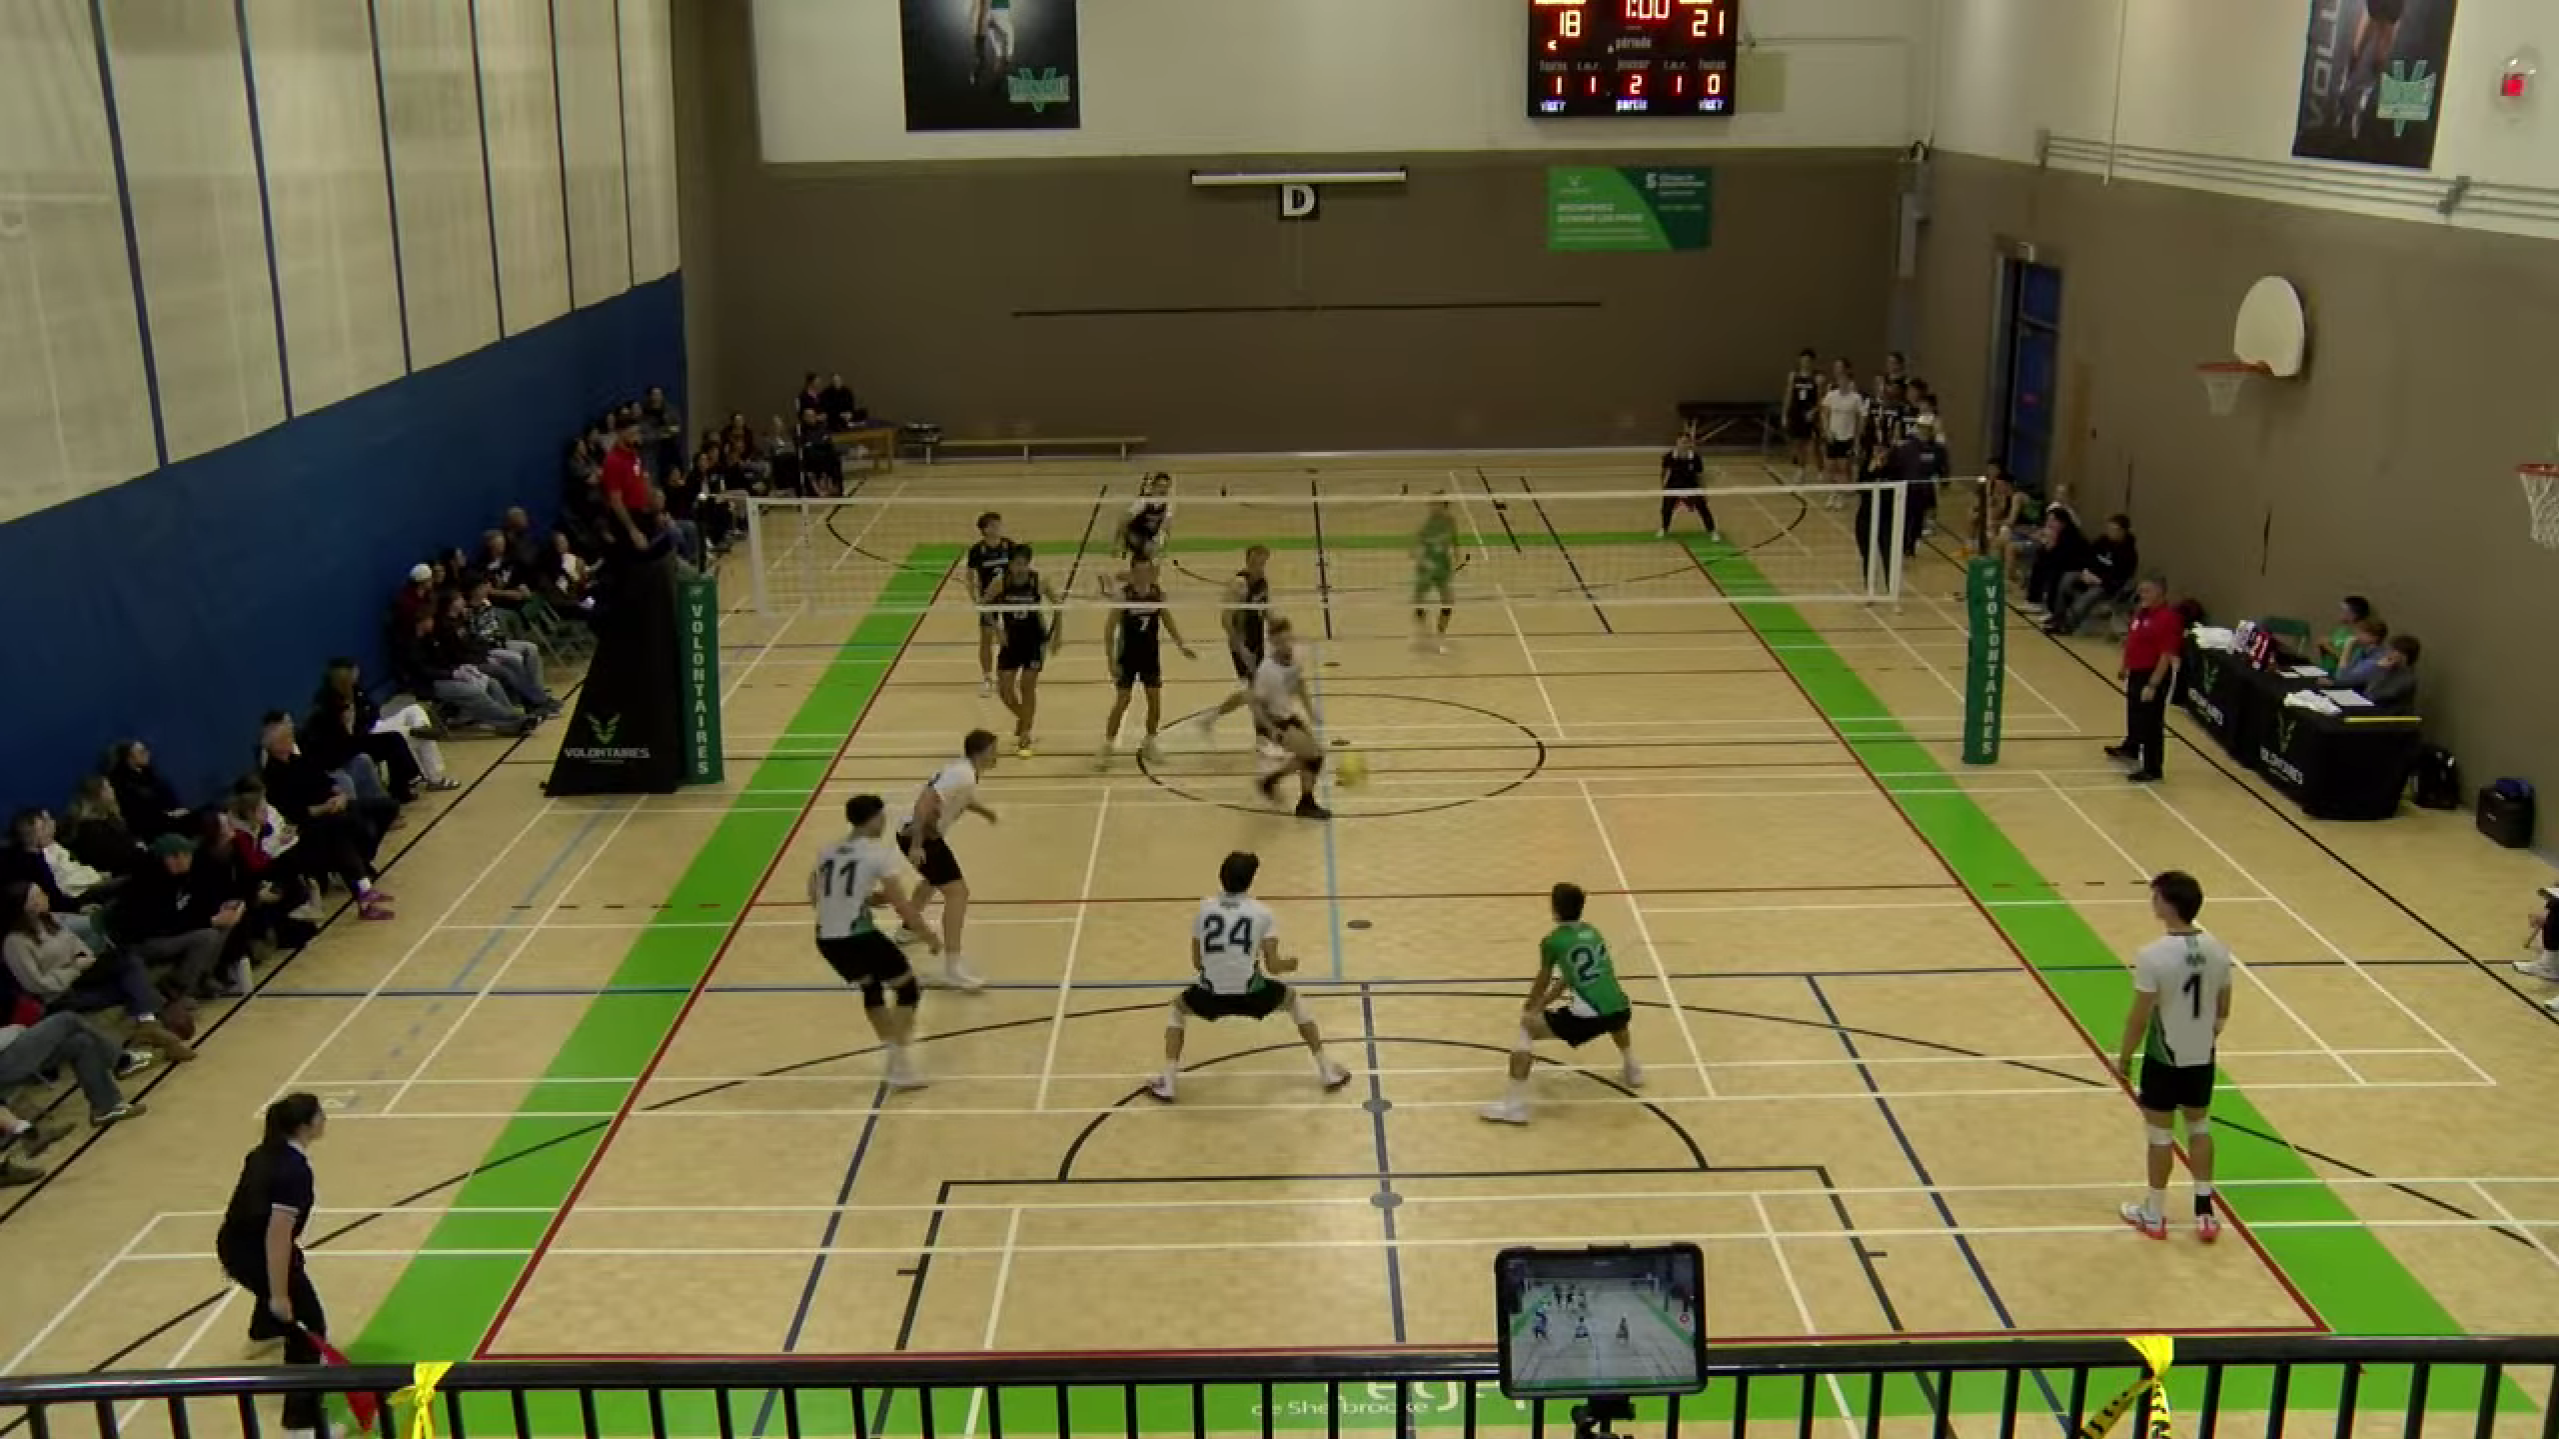Ball: (1336, 750, 1369, 787)
